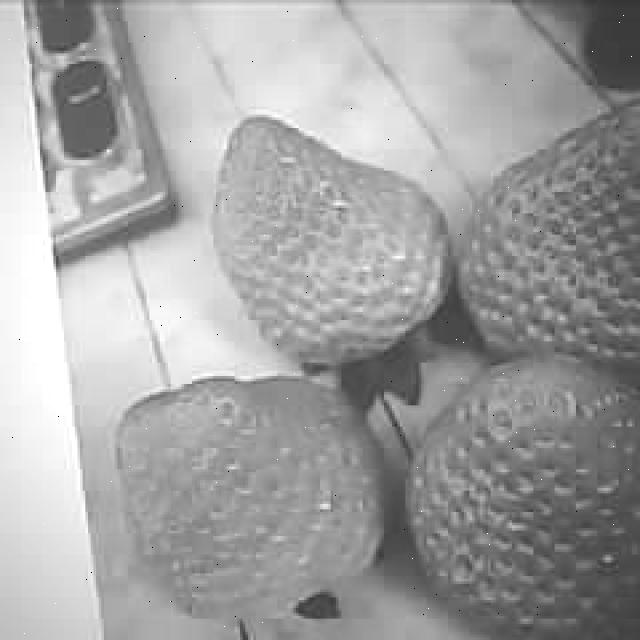ripe: (115, 378, 384, 619), (211, 114, 448, 364)
